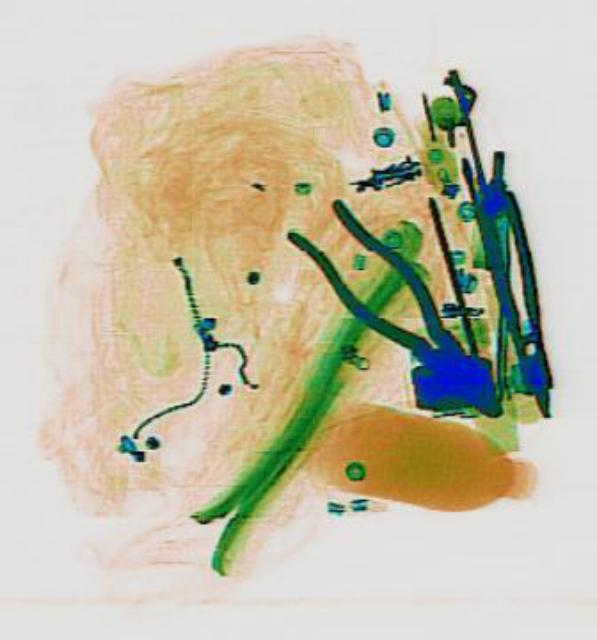Pliers: (278, 185, 525, 441)
